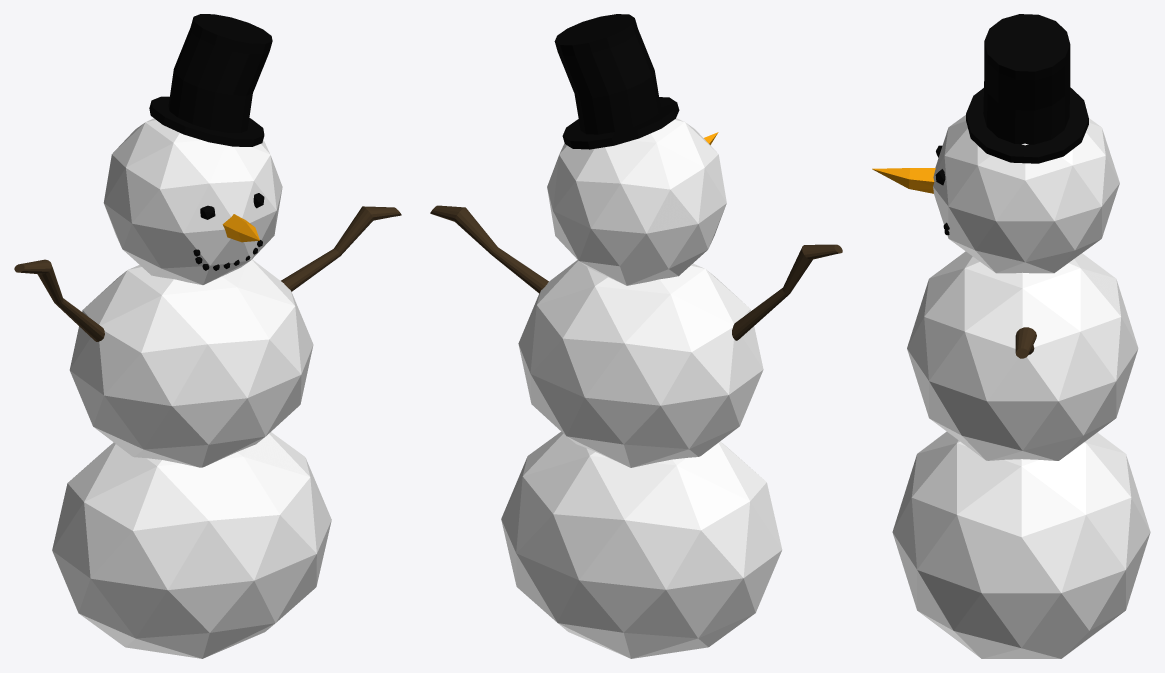
The model's file is LowPolySnowman.fbx.
3 renders of one model, left to right at view 1: azimuth 30°, elevation 25°; view 2: azimuth 150°, elevation 25°; view 3: azimuth 270°, elevation 25°, orthographic. The views are drawn at different scales.
Visible parts, largest first — view 1: Icosphere.001; view 2: Icosphere.001; view 3: Icosphere.001.
Boxes of the visible parts, x1=… form: Icosphere.001: x1=14, y1=14, x2=401, y2=658; Icosphere.001: x1=430, y1=14, x2=842, y2=658; Icosphere.001: x1=872, y1=14, x2=1150, y2=658.
Size of the model in its own units: 899 by 1340 by 530.
